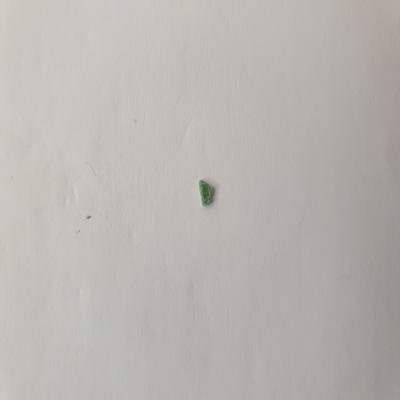plastic: (195, 173, 219, 214)
